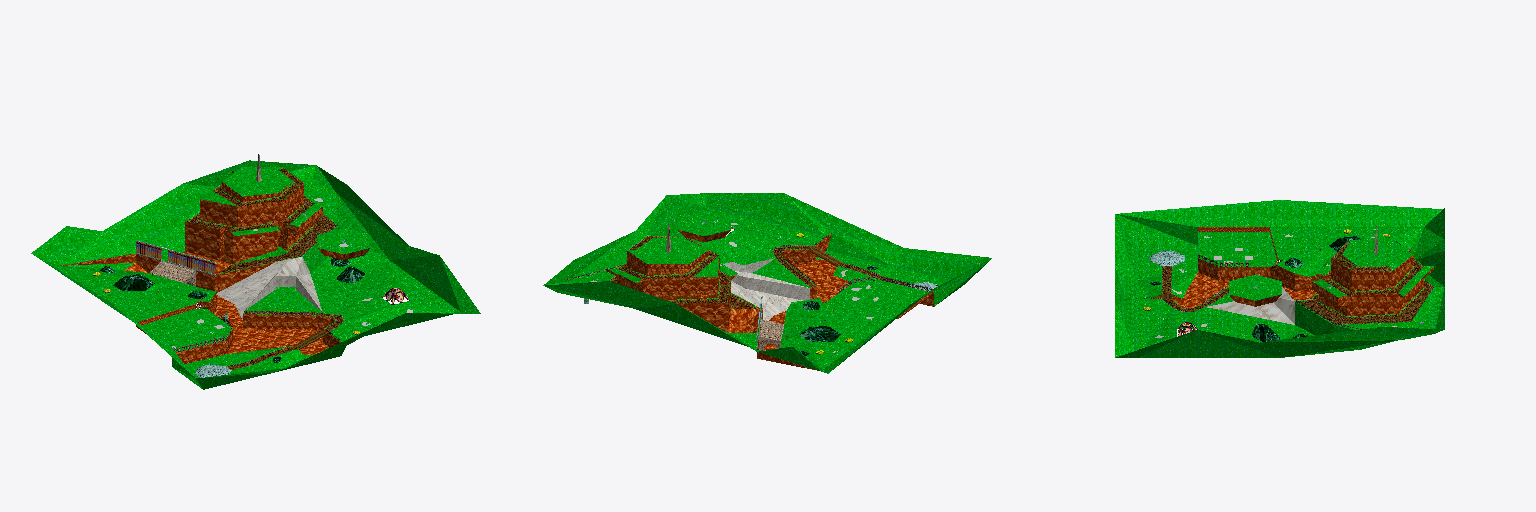
The picture shows the model from 3 angles: view 1: azimuth 30°, elevation 25°; view 2: azimuth 150°, elevation 25°; view 3: azimuth 270°, elevation 25°; orthographic projection.
Parts seen in each view (by area): view 1: node; view 2: node; view 3: node.
Boxes of the visible parts, box(x1,y1,x2,y2) form: node: box(31, 154, 480, 389); node: box(543, 193, 991, 373); node: box(1115, 200, 1444, 357).
Bounding box in the file's own units: 164 × 63.41 × 164.
18 materials, 17 textured.